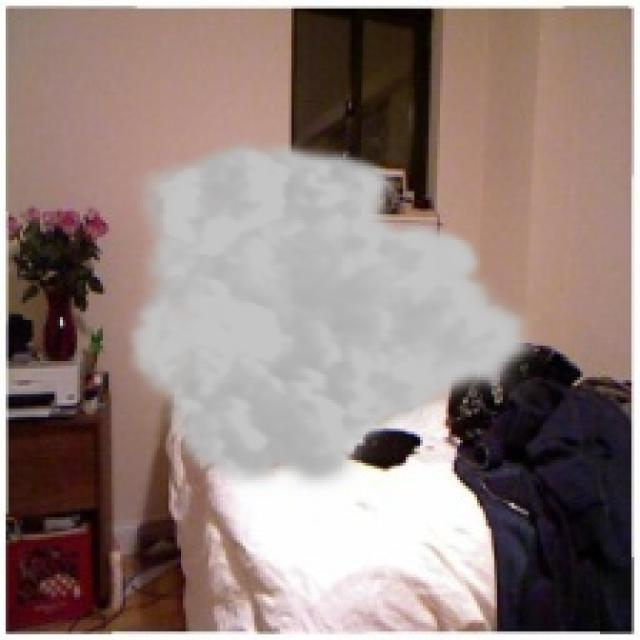Smoke: (123, 134, 543, 497)
